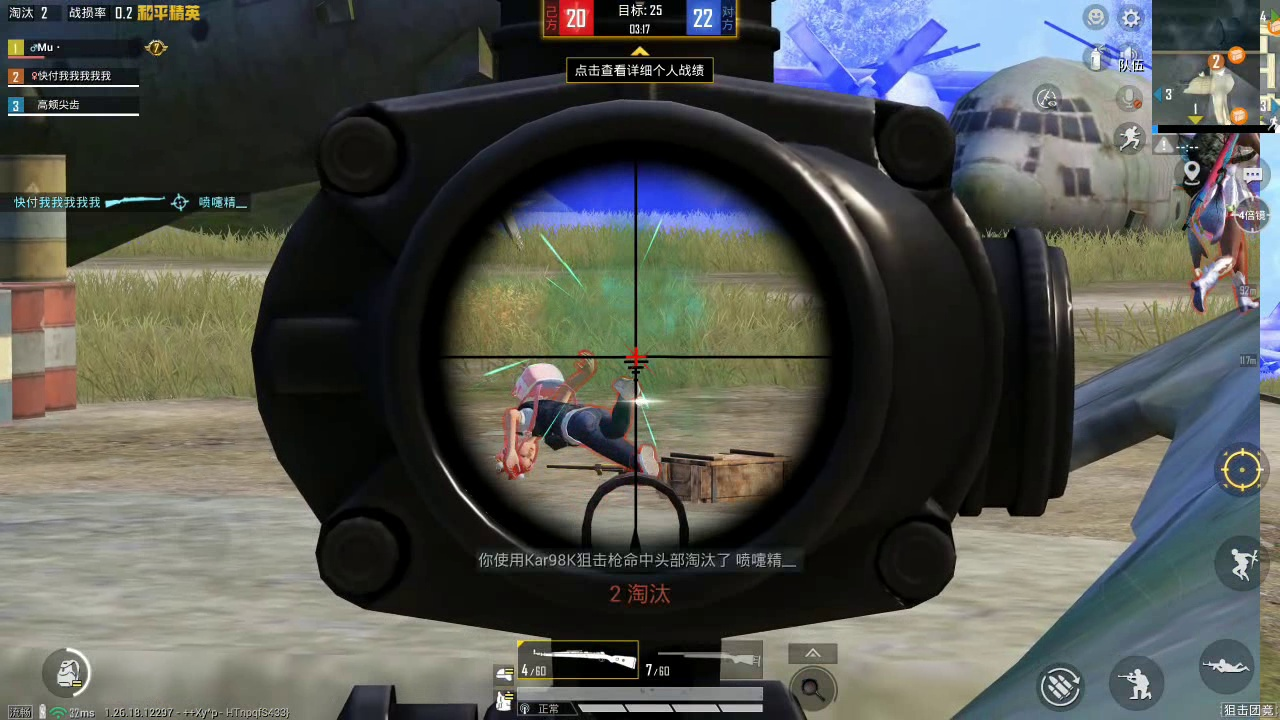enemy: (495, 354, 657, 486), (1178, 134, 1265, 315)
